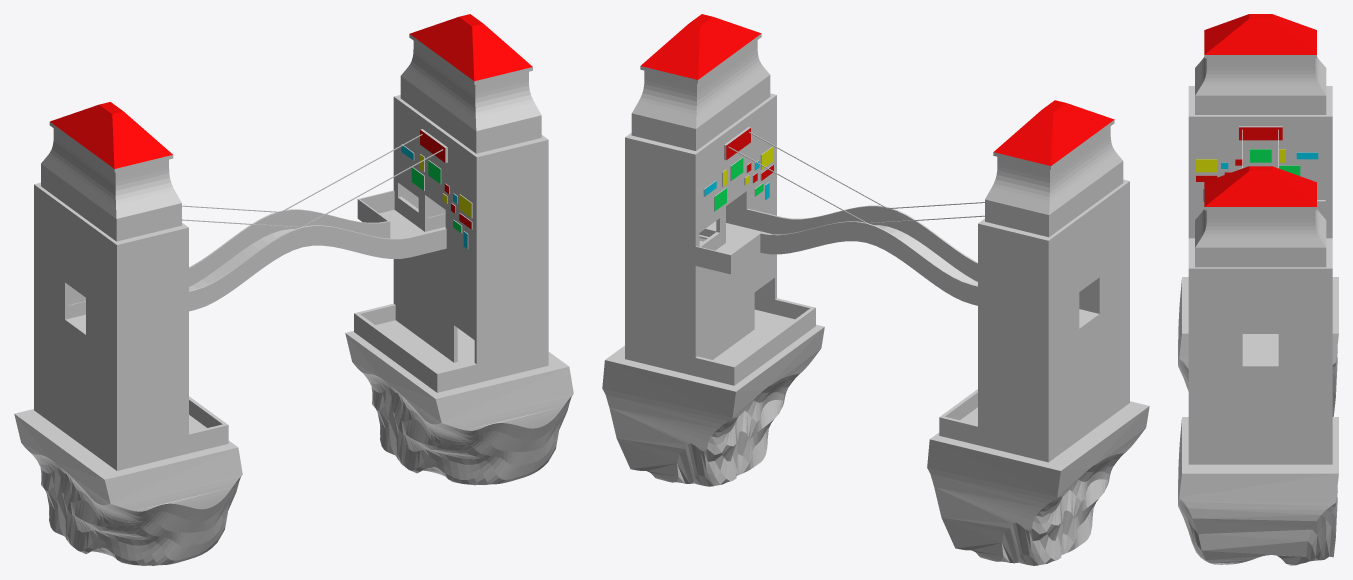
Rendered from bridge.dae.
The picture shows the model from 3 angles, left to right: view 1: azimuth 30°, elevation 25°; view 2: azimuth 150°, elevation 25°; view 3: azimuth 270°, elevation 25°; orthographic projection. The views are drawn at different scales.
Parts seen in each view (by area): view 1: Cube; view 2: Cube; view 3: Cube.
Boxes of the visible parts, x1,y1,x2,y2 form: Cube: (14,14,573,565); Cube: (602,14,1149,565); Cube: (1178,14,1338,565).
Size of the model in its own units: 131 by 44.7 by 117.
